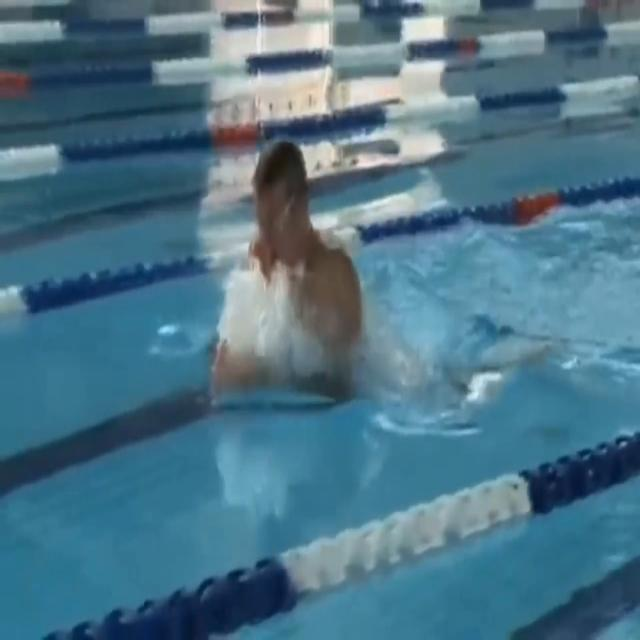Swimming: (214, 138, 366, 393)
